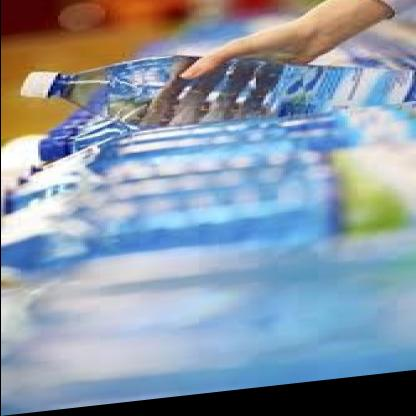Plastic: (23, 32, 392, 148)
